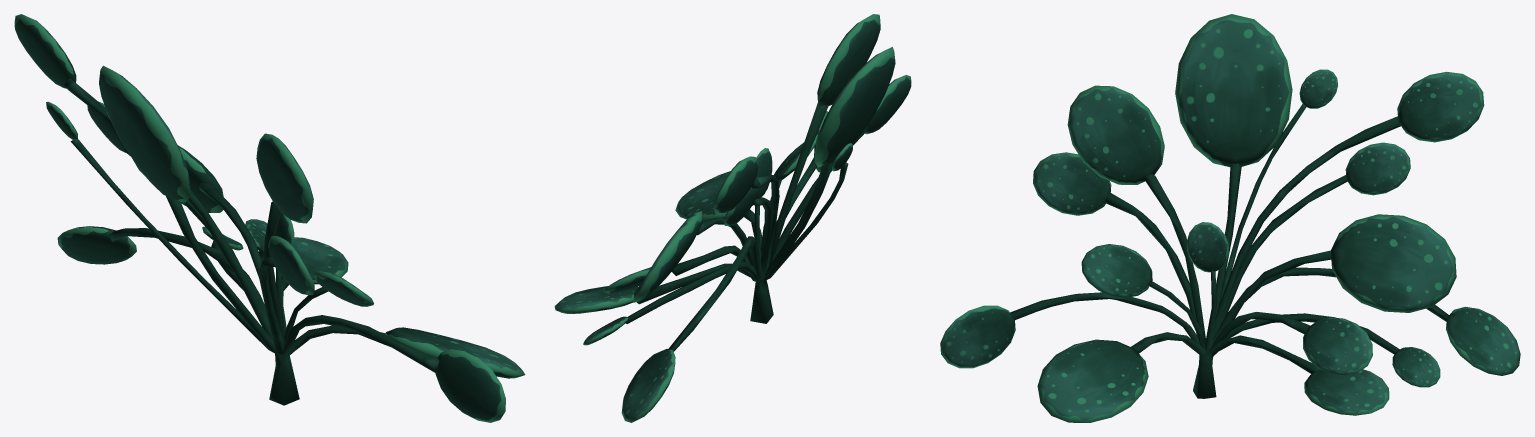
Rendered from Bushes_Rounded.fbx.
3 views of the same model, side by side, from view 1: azimuth 30°, elevation 25°; view 2: azimuth 150°, elevation 25°; view 3: azimuth 270°, elevation 25° (orthographic). The views are drawn at different scales.
Parts seen in each view (by area): view 1: BUSH_ROUND; view 2: BUSH_ROUND; view 3: BUSH_ROUND.
Part boxes in pixels (left/top/right/bottom): BUSH_ROUND: left=14, top=14, right=525, bottom=422; BUSH_ROUND: left=554, top=14, right=911, bottom=422; BUSH_ROUND: left=940, top=14, right=1520, bottom=422.
Bounding box in the file's own units: 397 × 417 × 690.
